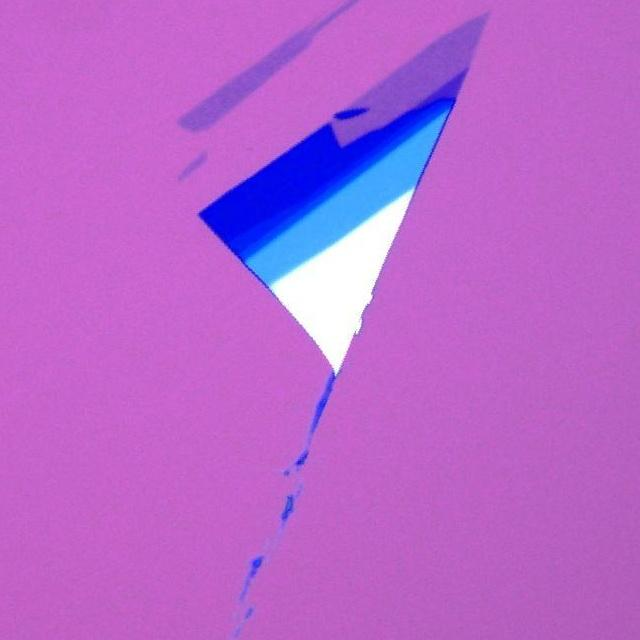monolayer-eWW4: (176, 0, 371, 133), (322, 5, 492, 150)
